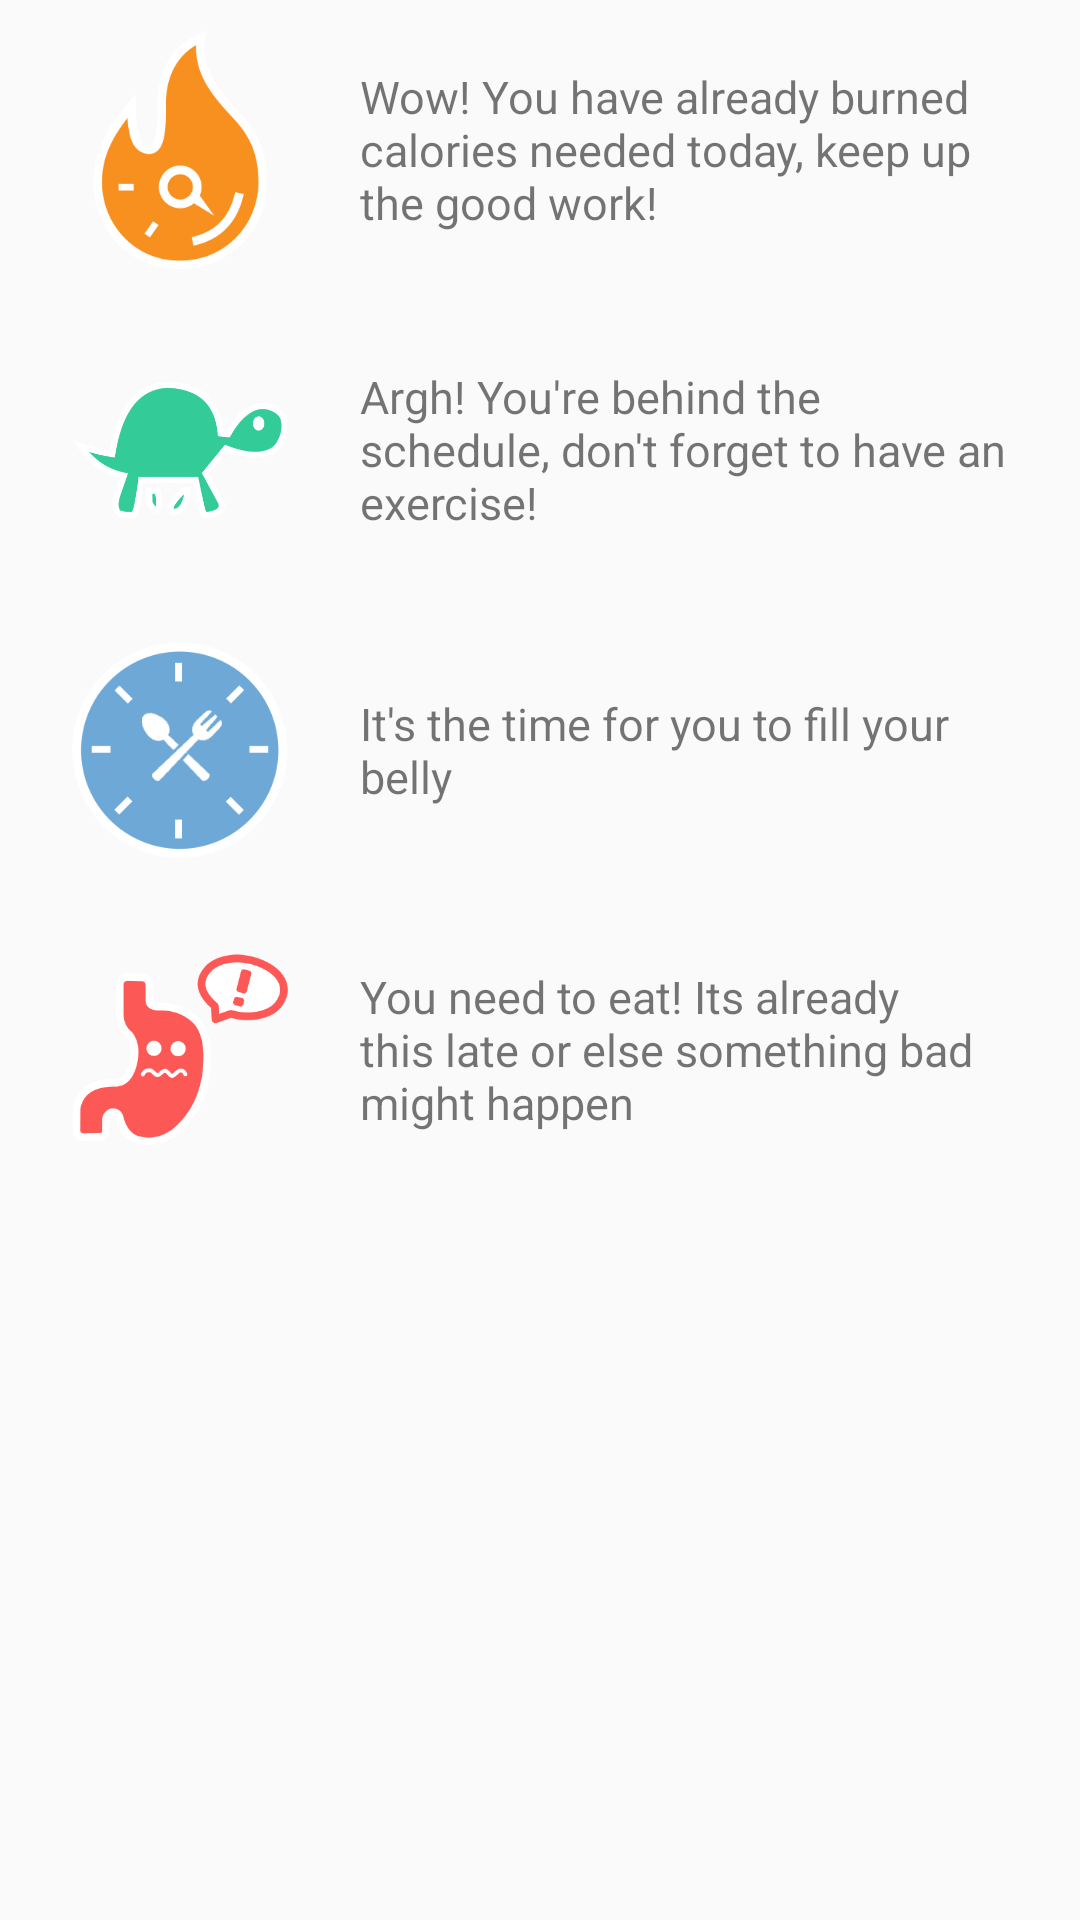

Where to tap for icons on this 1080w x 1920h app screen, as point (x, y):
slow: point (185, 450)
time eat: point (180, 750)
warning: point (184, 1046)
